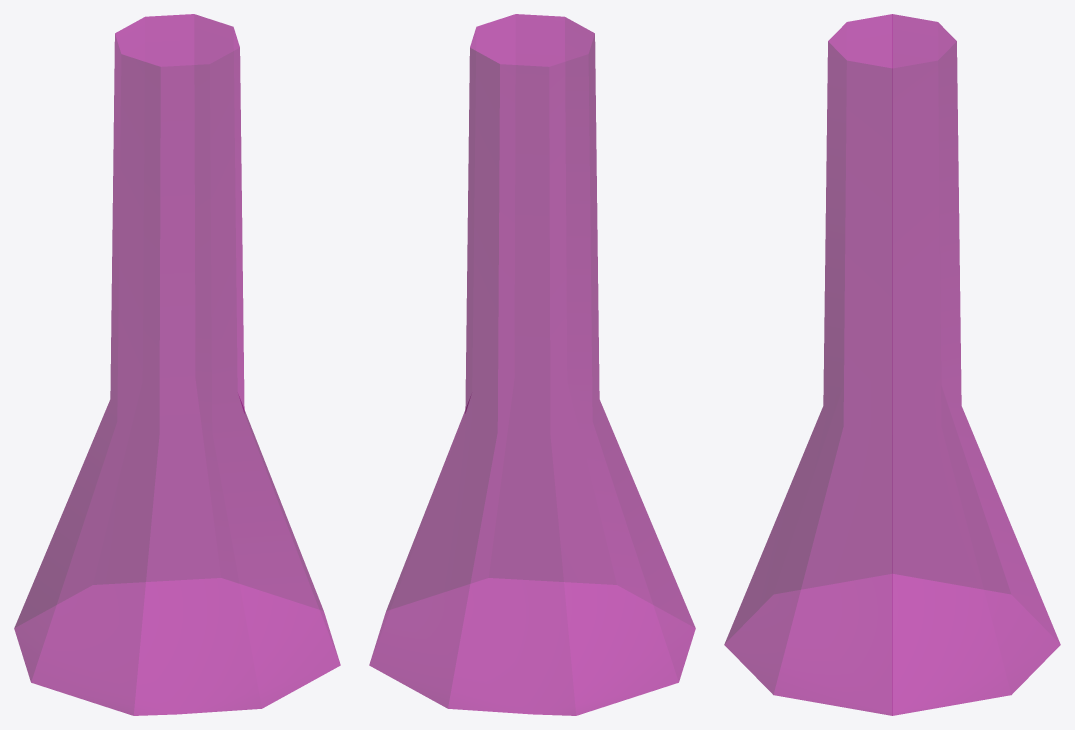
File: SM_Env_Tree_03_Collision.fbx
3 views of the same model, side by side, from view 1: azimuth 30°, elevation 25°; view 2: azimuth 150°, elevation 25°; view 3: azimuth 270°, elevation 25° (orthographic).
Parts seen in each view (by area): view 1: SM_Env_Tree_03_Collision; view 2: SM_Env_Tree_03_Collision; view 3: SM_Env_Tree_03_Collision.
Part boxes in pixels (<box>): SM_Env_Tree_03_Collision: <box>14,14,340,715</box>; SM_Env_Tree_03_Collision: <box>369,14,695,715</box>; SM_Env_Tree_03_Collision: <box>724,14,1060,715</box>.
Bounding box in the file's own units: 130 × 287 × 130.
